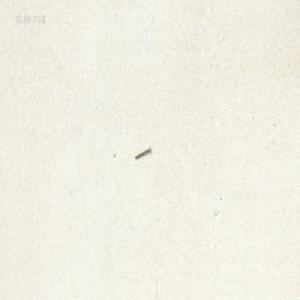Bolt: (133, 145, 151, 159)
